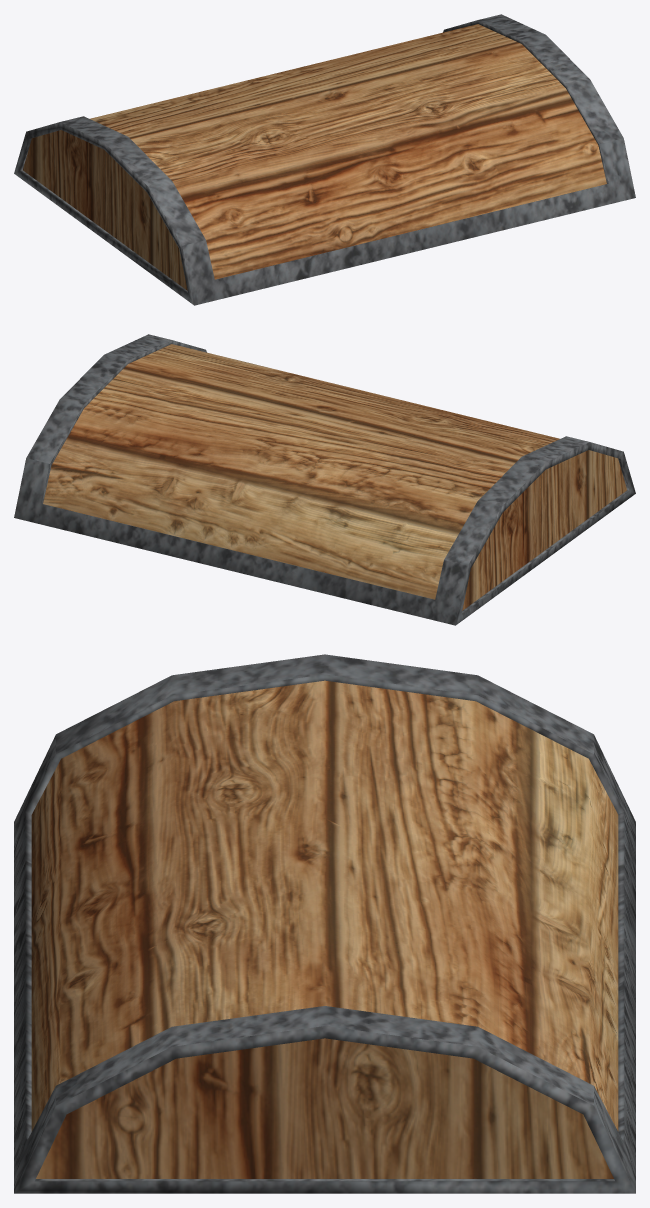
File: Chest_lid.fbx
The picture shows the model from 3 angles, top to bottom: view 1: azimuth 30°, elevation 25°; view 2: azimuth 150°, elevation 25°; view 3: azimuth 270°, elevation 25°; orthographic projection. The views are drawn at different scales.
Visible parts, largest first — view 1: ChestLid; view 2: ChestLid; view 3: ChestLid.
Part boxes in pixels (x1,y1,x2,y2): ChestLid: [14, 14, 635, 305]; ChestLid: [14, 334, 635, 625]; ChestLid: [14, 654, 635, 1193].
Bounding box in the file's own units: 324 × 68.19 × 229.
Materials: 2 (2 with a texture image).
